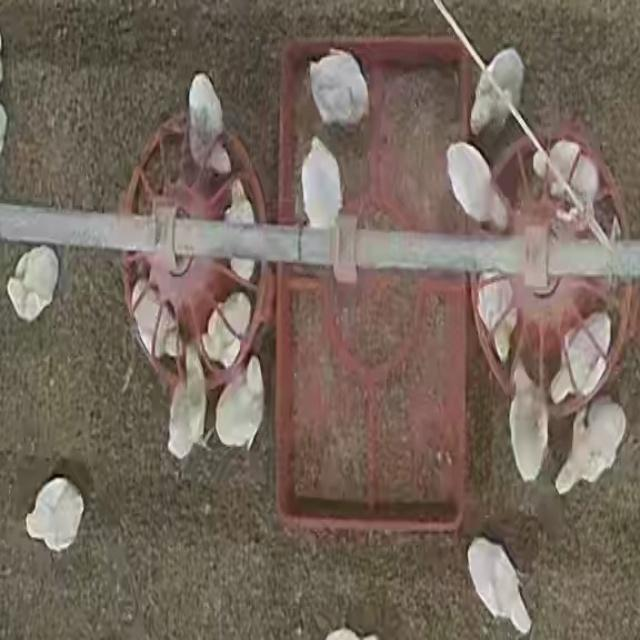chicken: (555, 399, 624, 493), (466, 536, 531, 635), (444, 141, 507, 230), (548, 313, 610, 402), (532, 141, 600, 219), (302, 50, 368, 127), (469, 47, 525, 137), (186, 72, 234, 175), (128, 276, 184, 360), (21, 480, 87, 550), (6, 241, 61, 324), (216, 356, 265, 449), (508, 366, 546, 485), (166, 347, 204, 458), (299, 138, 343, 228), (217, 180, 258, 274), (202, 294, 250, 367), (478, 276, 516, 361), (532, 148, 550, 178)
